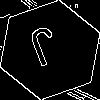J: (25, 25, 67, 77)
